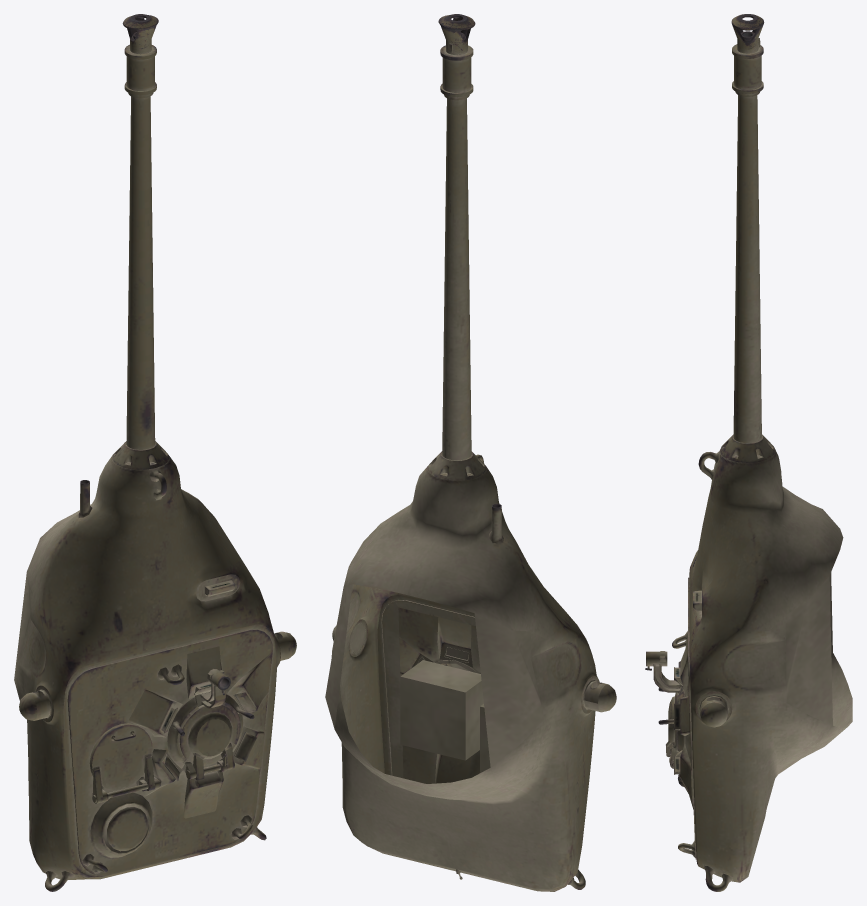
Rendered from Gun_01.glb.
The picture shows the model from 3 angles, left to right: view 1: azimuth 30°, elevation 25°; view 2: azimuth 150°, elevation 25°; view 3: azimuth 270°, elevation 25°; orthographic projection. The views are drawn at different scales.
Visible parts, largest first — view 1: set_0_group_0; view 2: set_0_group_0; view 3: set_0_group_0.
Boxes of the visible parts, box(x1,y1,x2,y2) form: set_0_group_0: box(14, 14, 296, 891); set_0_group_0: box(325, 14, 616, 891); set_0_group_0: box(645, 14, 852, 891).
Bounding box in the file's own units: 2.34 × 6.89 × 1.56.
Materials: 1 (1 with a texture image).
